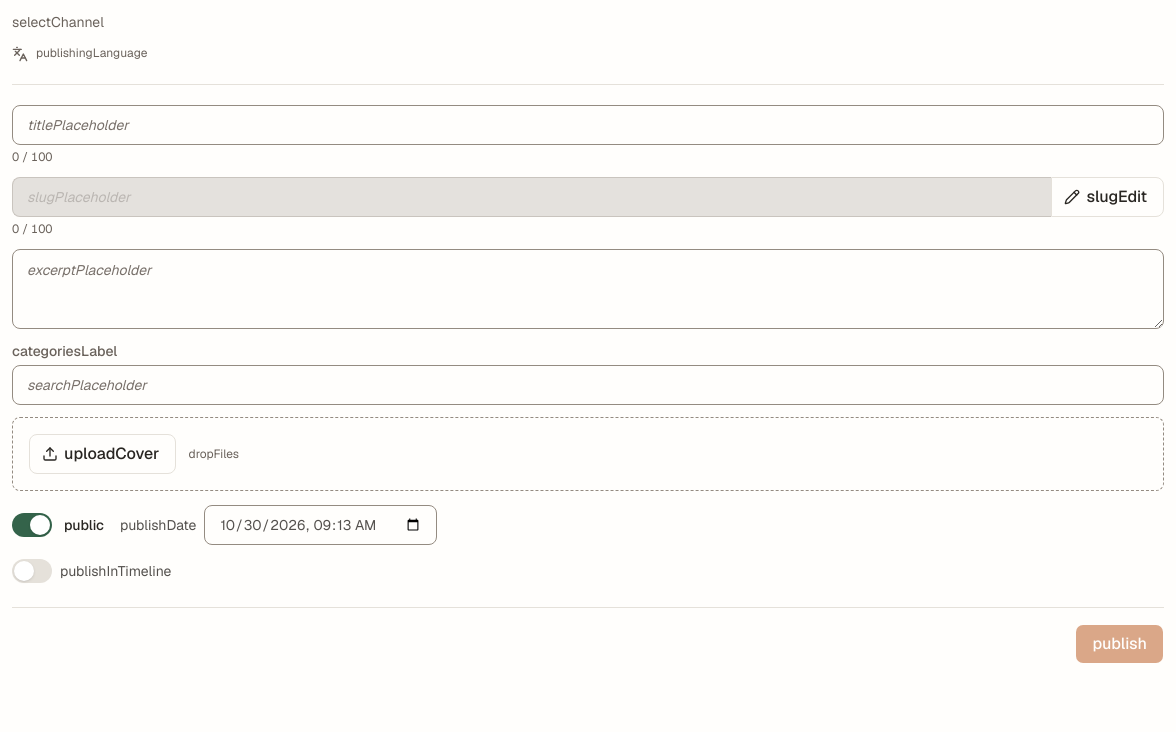
BlogForm slug field › formats the slug on blur when leaving the input
Click the button "slugEdit": (1108, 196) [1051,176,1164,216]
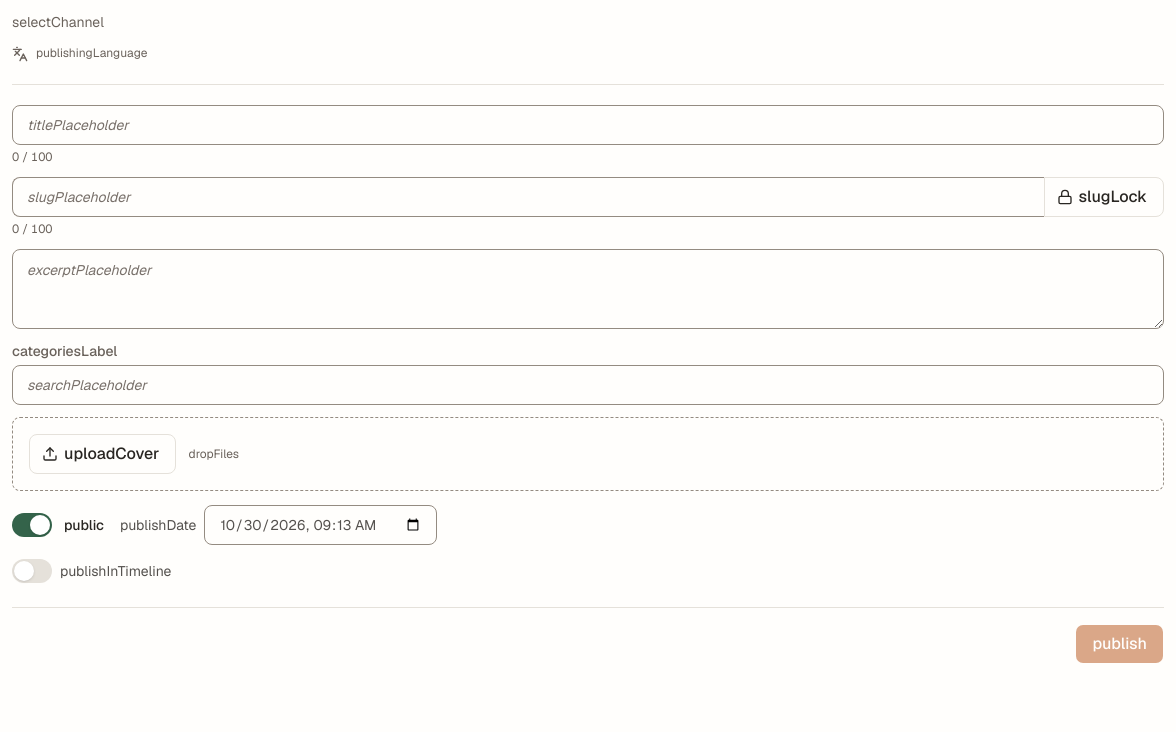
In the field with placeholder "slugPlaceholder": (528, 196) [12,176,1044,216], type "My Custom Slug!"
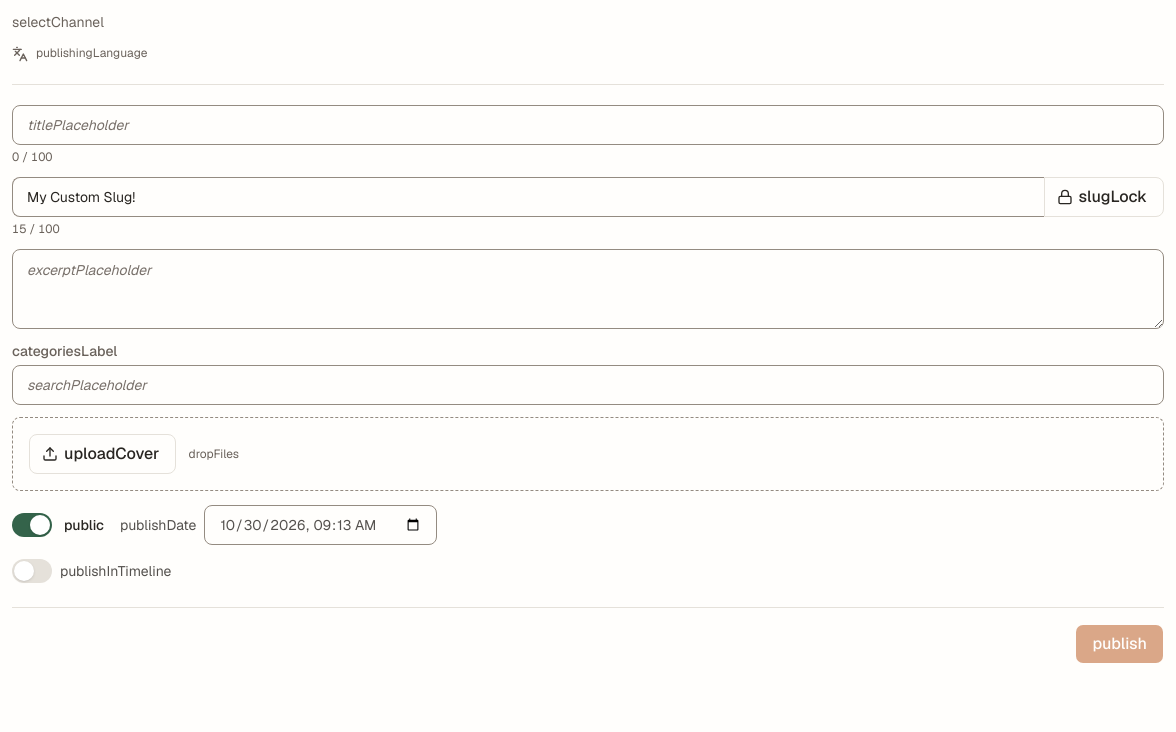
Leave the field with placeholder "slugPlaceholder", box [12,176,1044,216]
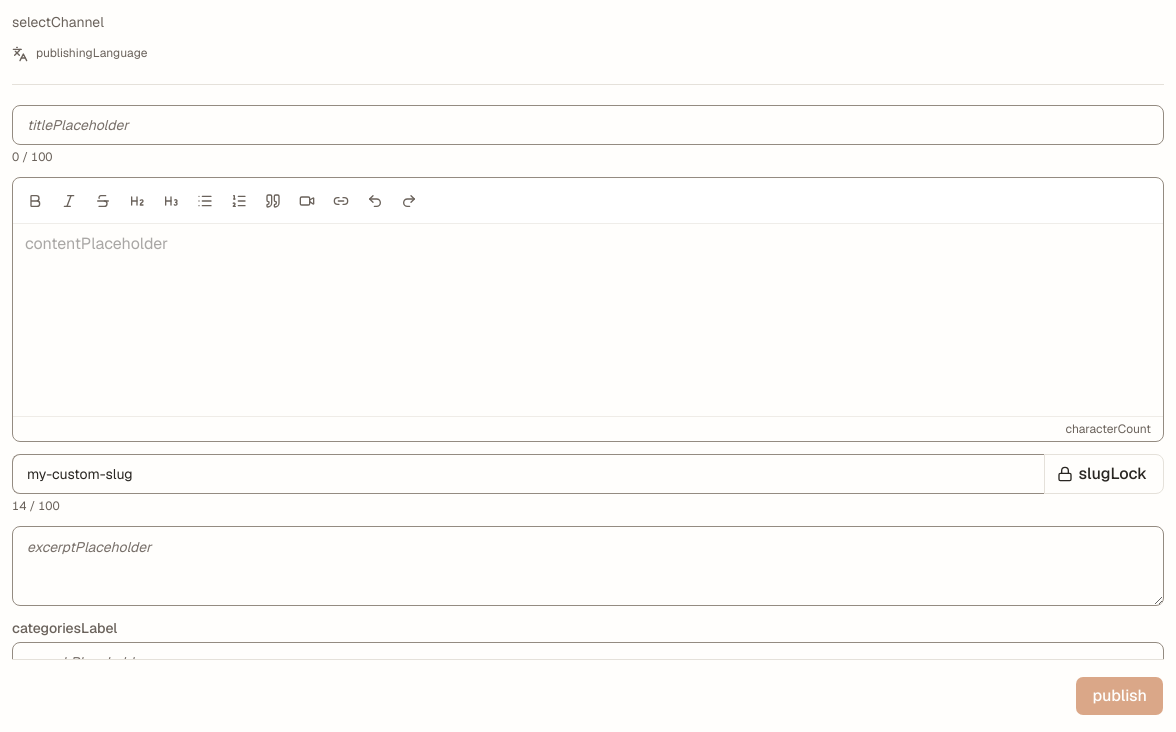
expect the field with placeholder "slugPlaceholder" holds "my-custom-slug": met, box [12,454,1044,494]
